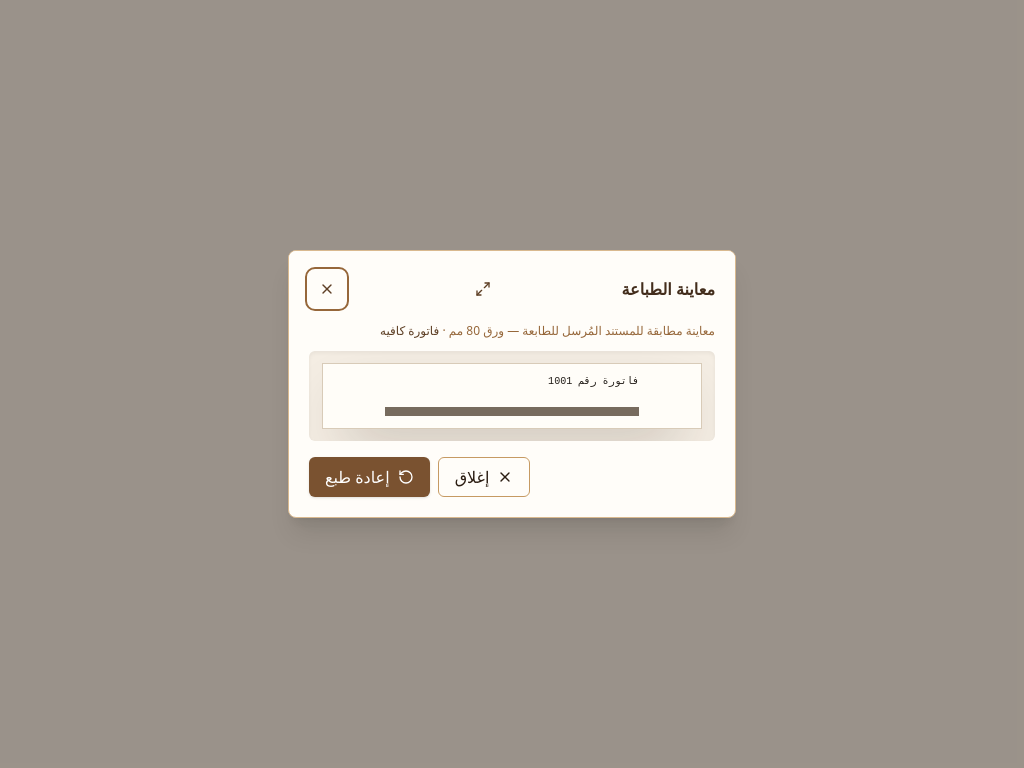
PrintPreviewDialog › reports duplicate-suppressed reprints using the existing message
Click the button "إعادة طبع" at point(369, 477), box [309,457,430,497]
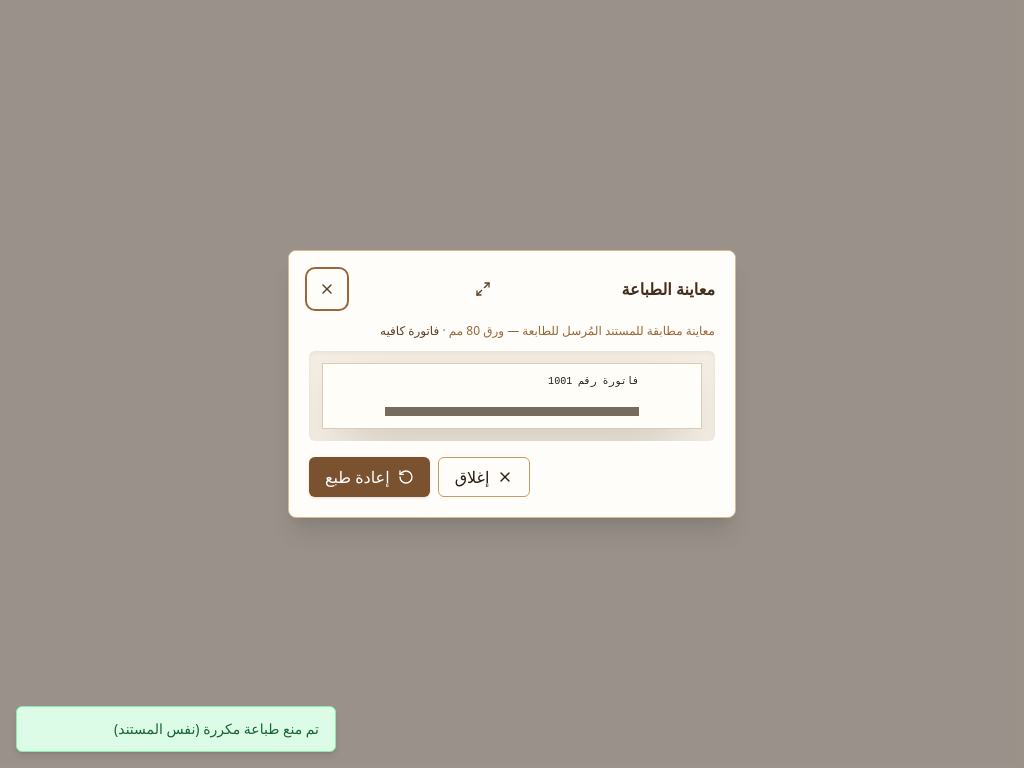
Expected: the text "تم منع طباعة مكررة (نفس المستند)" is shown, [16,706,336,752]
